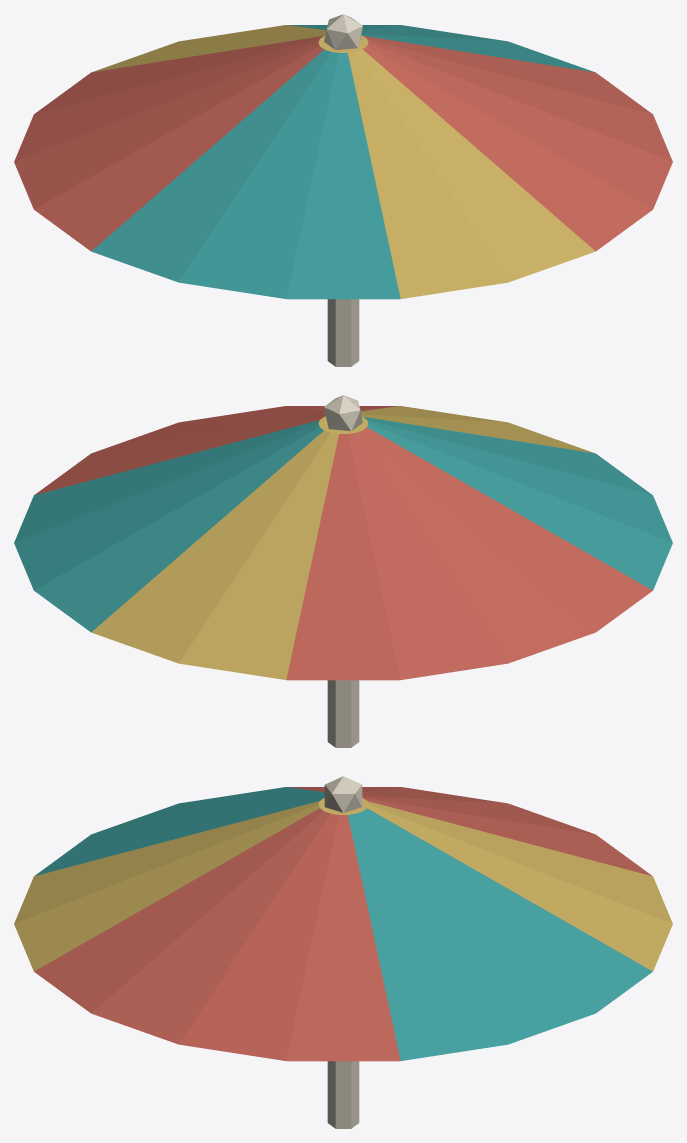
File: goo_jar_hat@beach.fbx
The picture shows the model from 3 angles, top to bottom: view 1: azimuth 30°, elevation 25°; view 2: azimuth 150°, elevation 25°; view 3: azimuth 270°, elevation 25°; orthographic projection.
Visible parts, largest first — view 1: goo_jar_hat; view 2: goo_jar_hat; view 3: goo_jar_hat.
Boxes of the visible parts, x1,y1,x2,y2 form: goo_jar_hat: [14, 14, 672, 366]; goo_jar_hat: [14, 395, 672, 747]; goo_jar_hat: [14, 776, 672, 1128].
Size of the model in its own units: 2.07 by 1.22 by 2.1.
